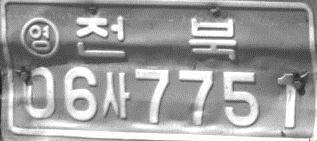0: (21, 65, 56, 120)
1: (268, 72, 304, 129)
5: (222, 69, 259, 127)
6: (62, 65, 97, 122)
7: (134, 67, 170, 124), (178, 68, 213, 126)
사: (101, 71, 130, 119)
영: (20, 15, 59, 59)
전북_D: (74, 16, 237, 60)
